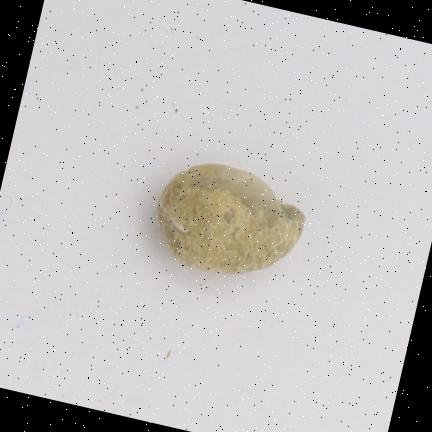immature: (158, 164, 304, 273)
